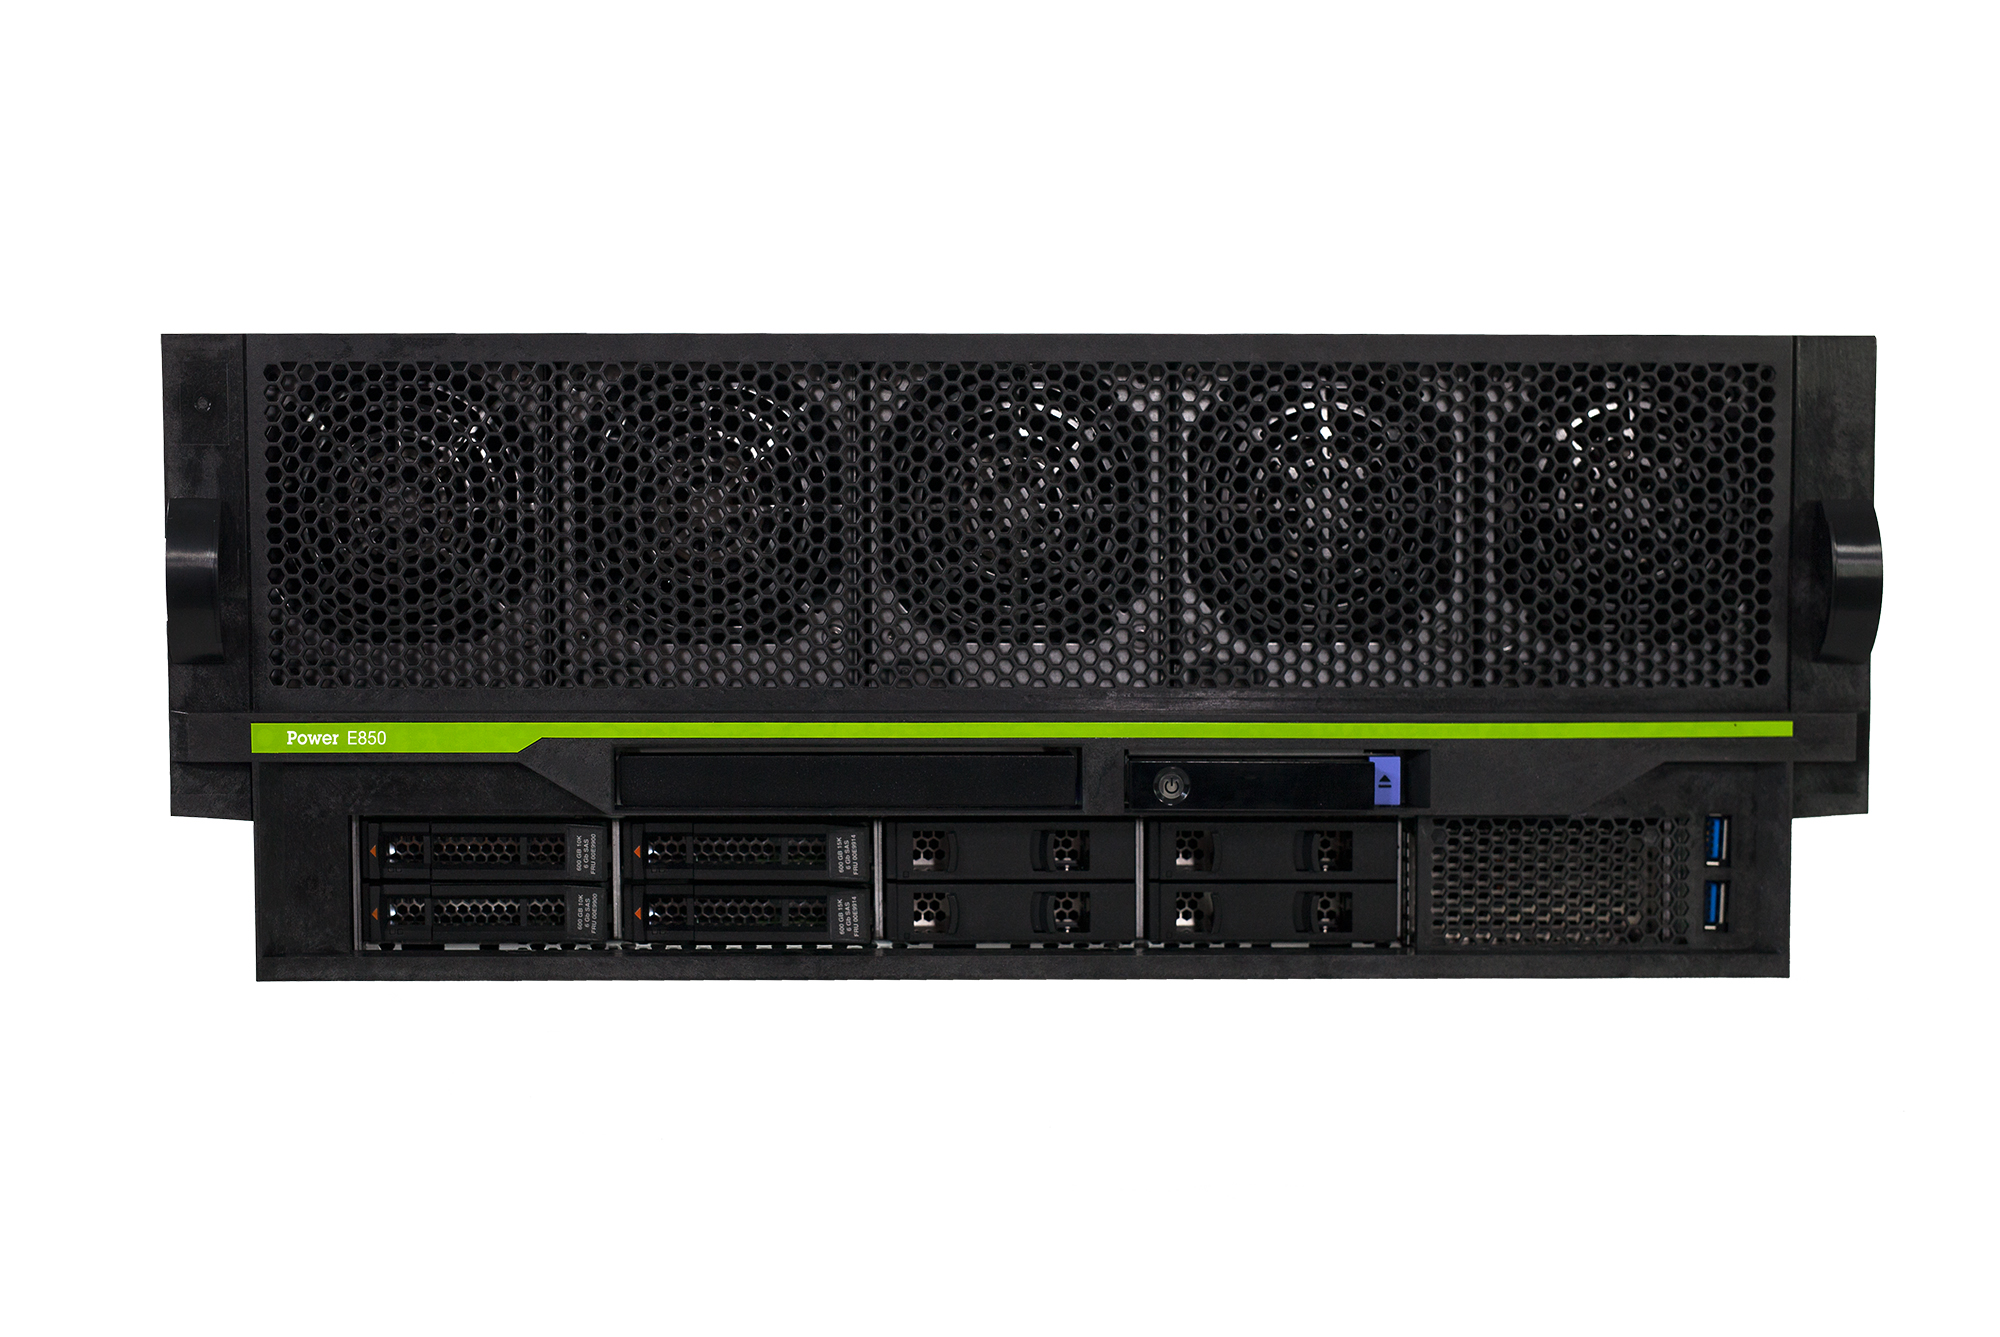ibm-server: (116, 292, 1903, 1021)
